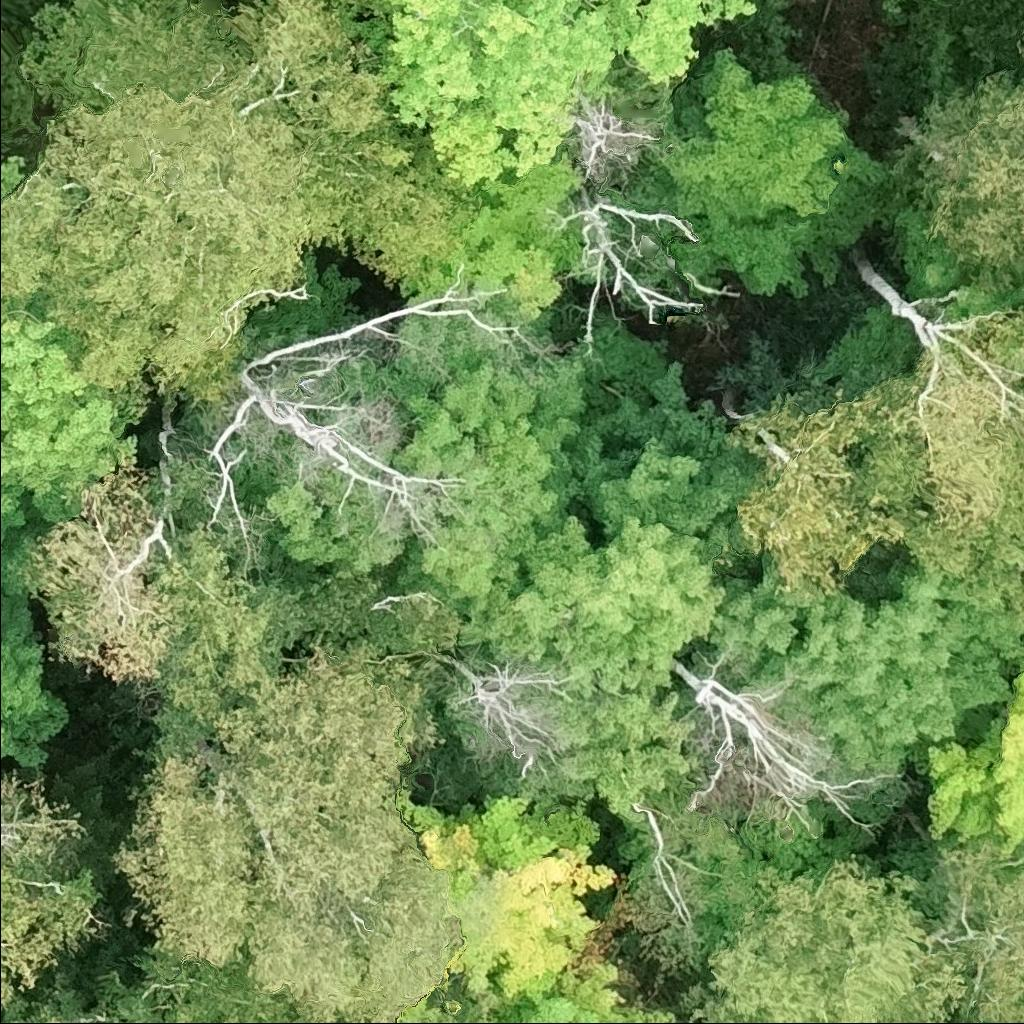crown: (109, 631, 461, 1023), (458, 399, 762, 823), (0, 0, 311, 406), (264, 315, 594, 613), (201, 279, 486, 577), (622, 28, 920, 300), (365, 0, 758, 186), (711, 553, 1023, 775), (394, 785, 628, 1015), (681, 854, 967, 1023), (139, 520, 320, 756), (723, 384, 928, 590), (869, 342, 1023, 608), (672, 659, 878, 837), (21, 461, 181, 684), (0, 306, 155, 527), (297, 117, 485, 287), (402, 148, 581, 321), (890, 63, 1023, 294), (556, 179, 706, 359), (0, 768, 104, 1008), (229, 0, 395, 139), (0, 486, 75, 768), (919, 668, 1023, 853), (921, 837, 1023, 1023), (437, 658, 573, 782), (100, 949, 295, 1023), (463, 972, 682, 1023), (555, 92, 662, 181), (947, 307, 1023, 395), (13, 1006, 76, 1023), (0, 155, 26, 193), (1012, 18, 1023, 58), (882, 0, 909, 15), (929, 0, 944, 4), (970, 1021, 974, 1023)
